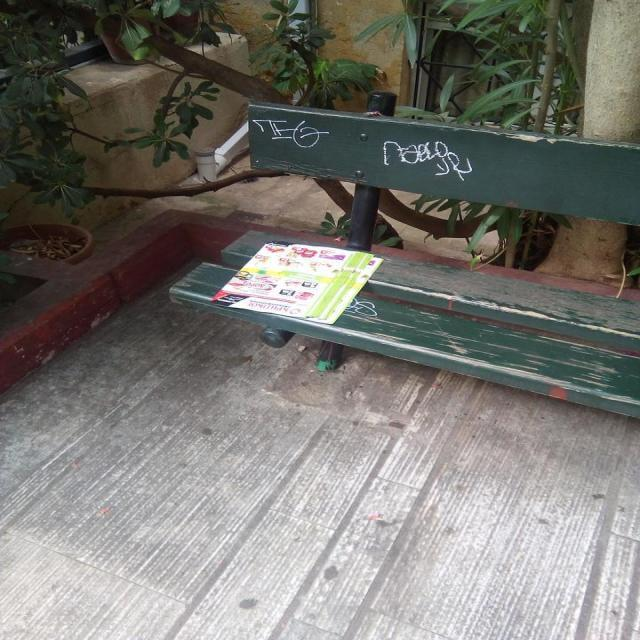nonspitting: (382, 137, 474, 182), (254, 116, 331, 149)
